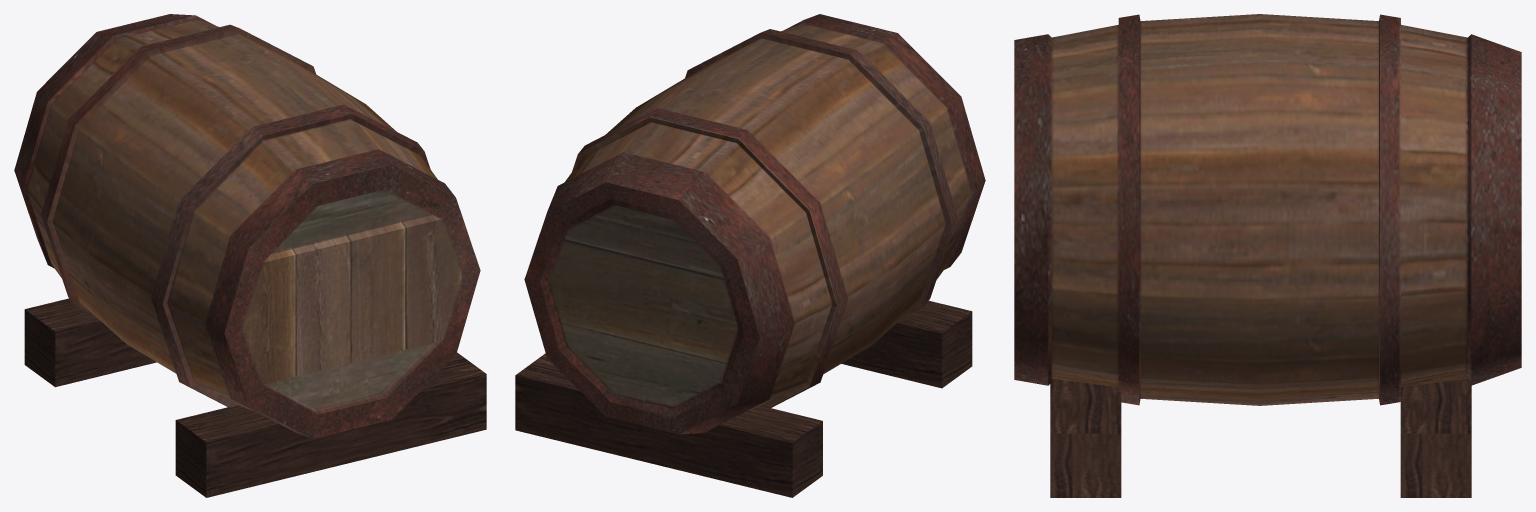
File: wineBarrel.fbx
3 renders of one model, left to right at view 1: azimuth 30°, elevation 25°; view 2: azimuth 150°, elevation 25°; view 3: azimuth 270°, elevation 25°, orthographic. The views are drawn at different scales.
Parts seen in each view (by area): view 1: wineBarrelMesh1; view 2: wineBarrelMesh1; view 3: wineBarrelMesh1.
Boxes of the visible parts, <box> form: wineBarrelMesh1: <box>14,14,486,497</box>; wineBarrelMesh1: <box>515,14,985,497</box>; wineBarrelMesh1: <box>1014,14,1521,497</box>.
Bounding box in the file's own units: 84.08 × 87.14 × 107.
